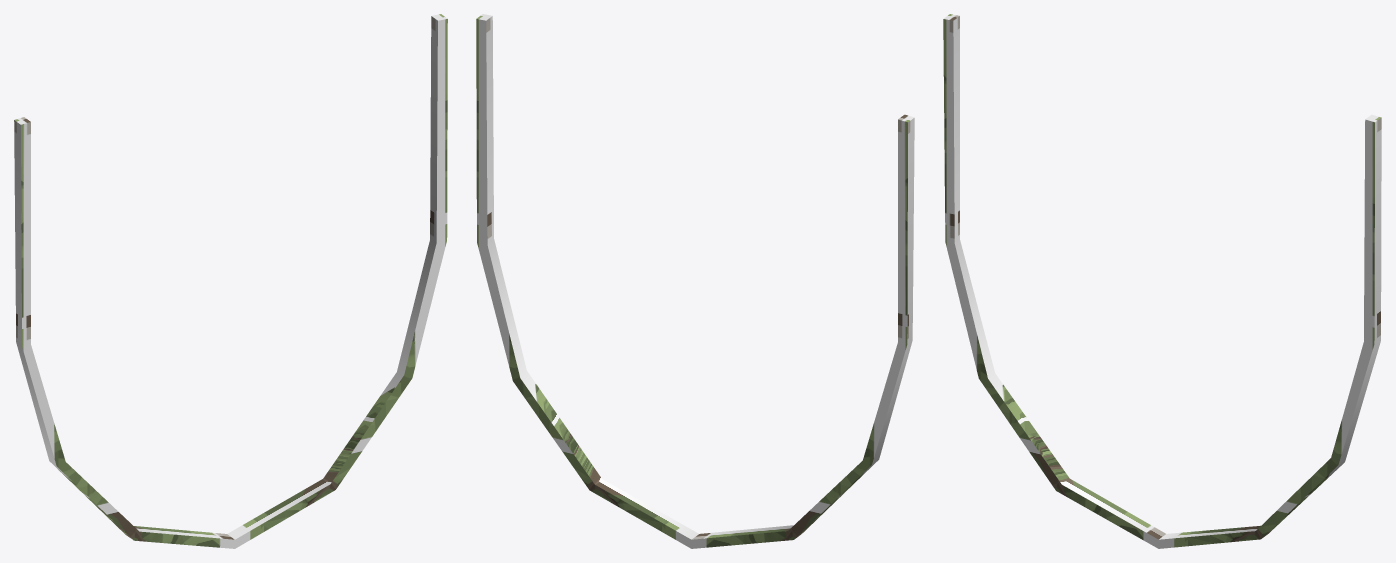
File: synty-tree-vines-01.gltf
3 renders of one model, left to right at view 1: azimuth 30°, elevation 25°; view 2: azimuth 150°, elevation 25°; view 3: azimuth 330°, elevation 25°, orthographic.
Visible parts, largest first — view 1: SM_Tree_Vines_01; view 2: SM_Tree_Vines_01; view 3: SM_Tree_Vines_01.
Part boxes in pixels (left/top/right/bottom): SM_Tree_Vines_01: left=14, top=14, right=447, bottom=548; SM_Tree_Vines_01: left=476, top=14, right=914, bottom=548; SM_Tree_Vines_01: left=943, top=14, right=1381, bottom=548.
Bounding box in the file's own units: 1.56 × 1.66 × 0.0566.
1 material, 1 textured.
